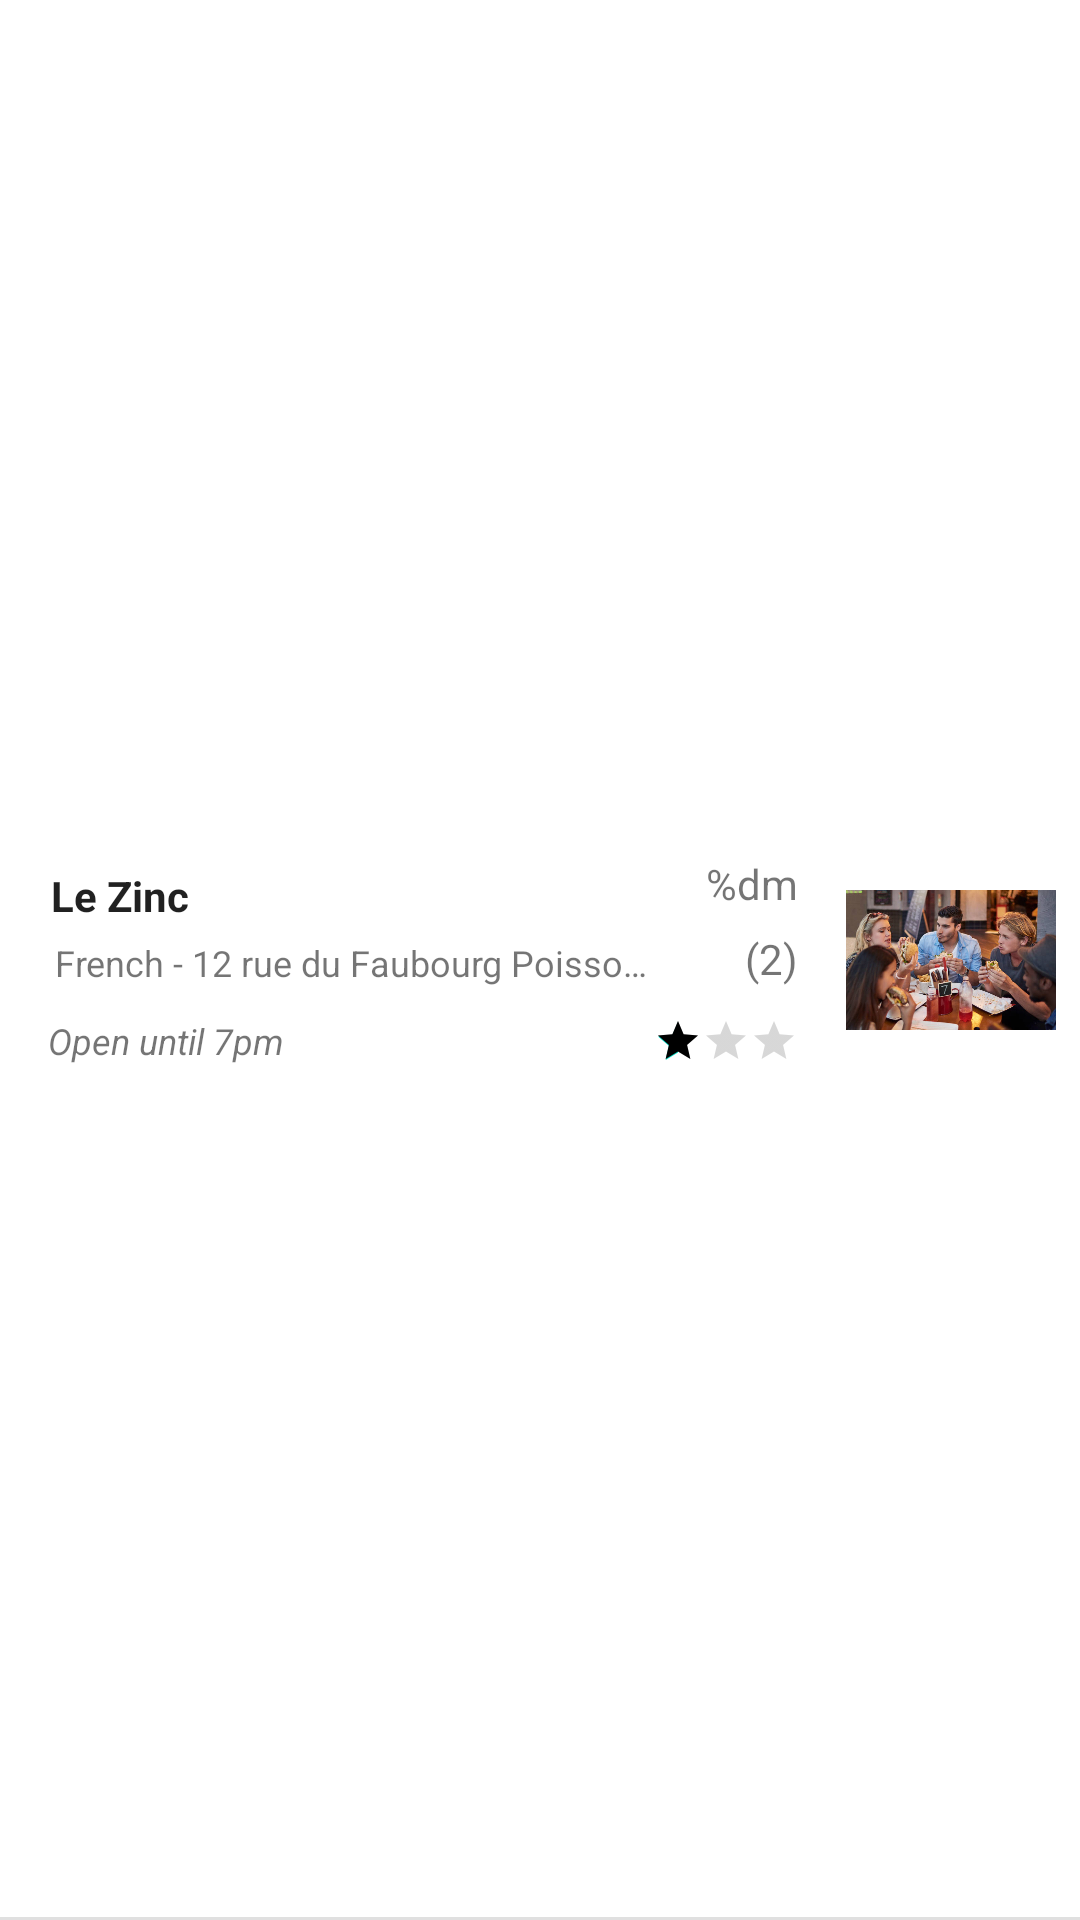

Icon click points for this 1080*1920 phone screenshot, format (x,y):
people eating: (951,960)
